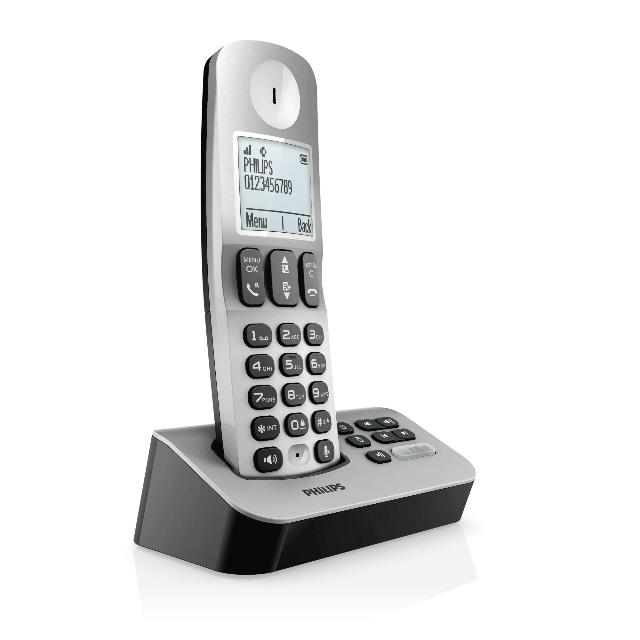Telephone-Set: (127, 8, 491, 600)
